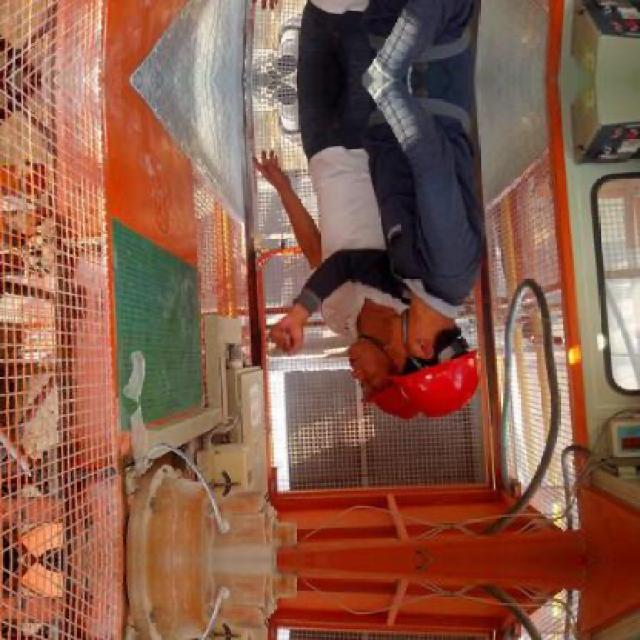con casco: (372, 290, 474, 409), (336, 318, 428, 432)
